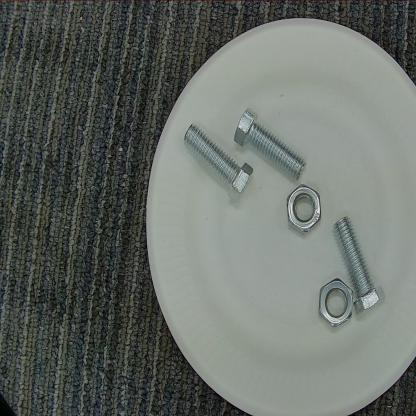FOD: (183, 120, 256, 211), (231, 105, 310, 187), (334, 214, 390, 320), (278, 181, 329, 244), (316, 276, 356, 336)
